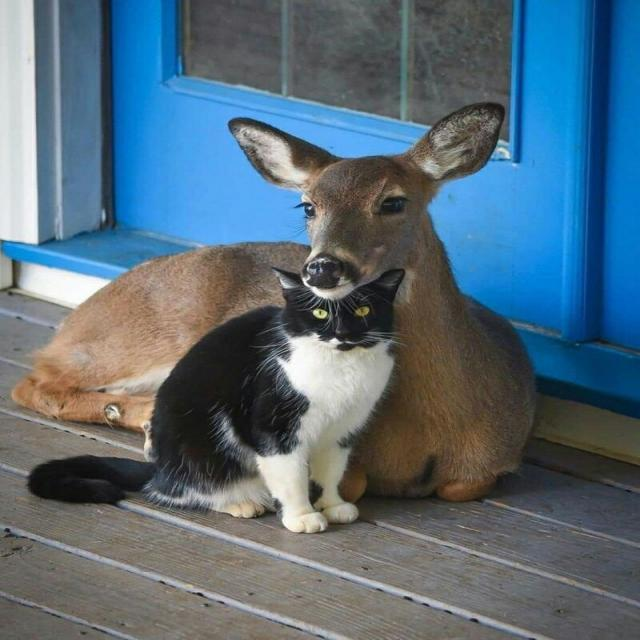cat: (138, 274, 426, 528)
